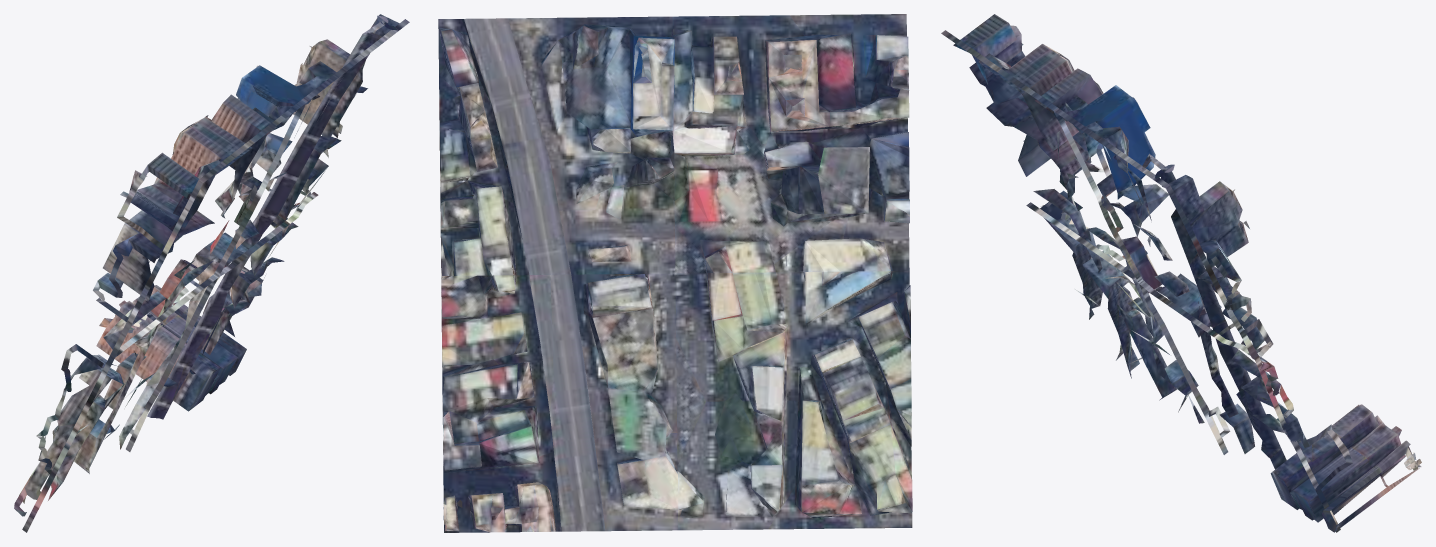
The picture shows the model from 3 angles, left to right: view 1: azimuth 30°, elevation 25°; view 2: azimuth 150°, elevation 25°; view 3: azimuth 270°, elevation 25°; orthographic projection. The views are drawn at different scales.
Size of the model in its own units: 309 by 285 by 310.
Materials: 1 (1 with a texture image).
